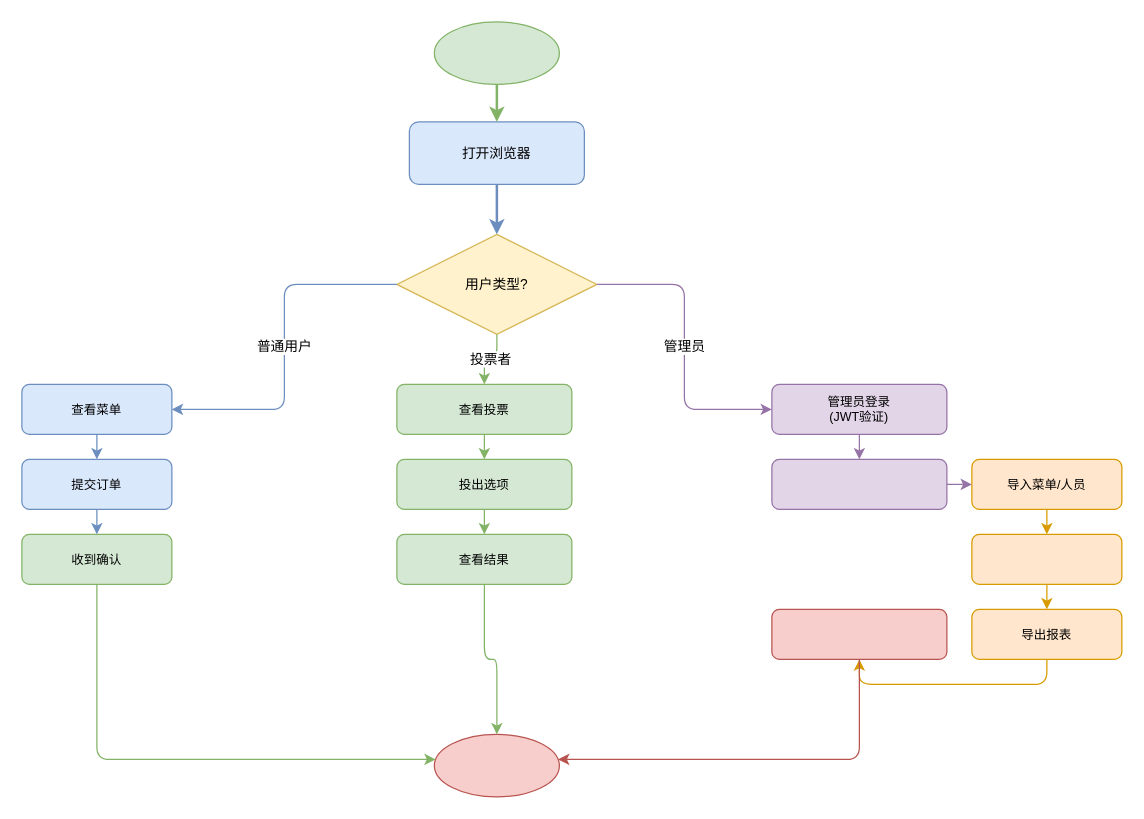
Some shapes in this 1144 by 819 pixel diagram are drawn without their labels. Here are the shapes that lost their labels. From the top down, the centre of each, then its label:
[496,52]: START
[859,483]: 管理后台
[1046,558]: 管理轮次
[859,633]: 备份/恢复
[496,765]: END
